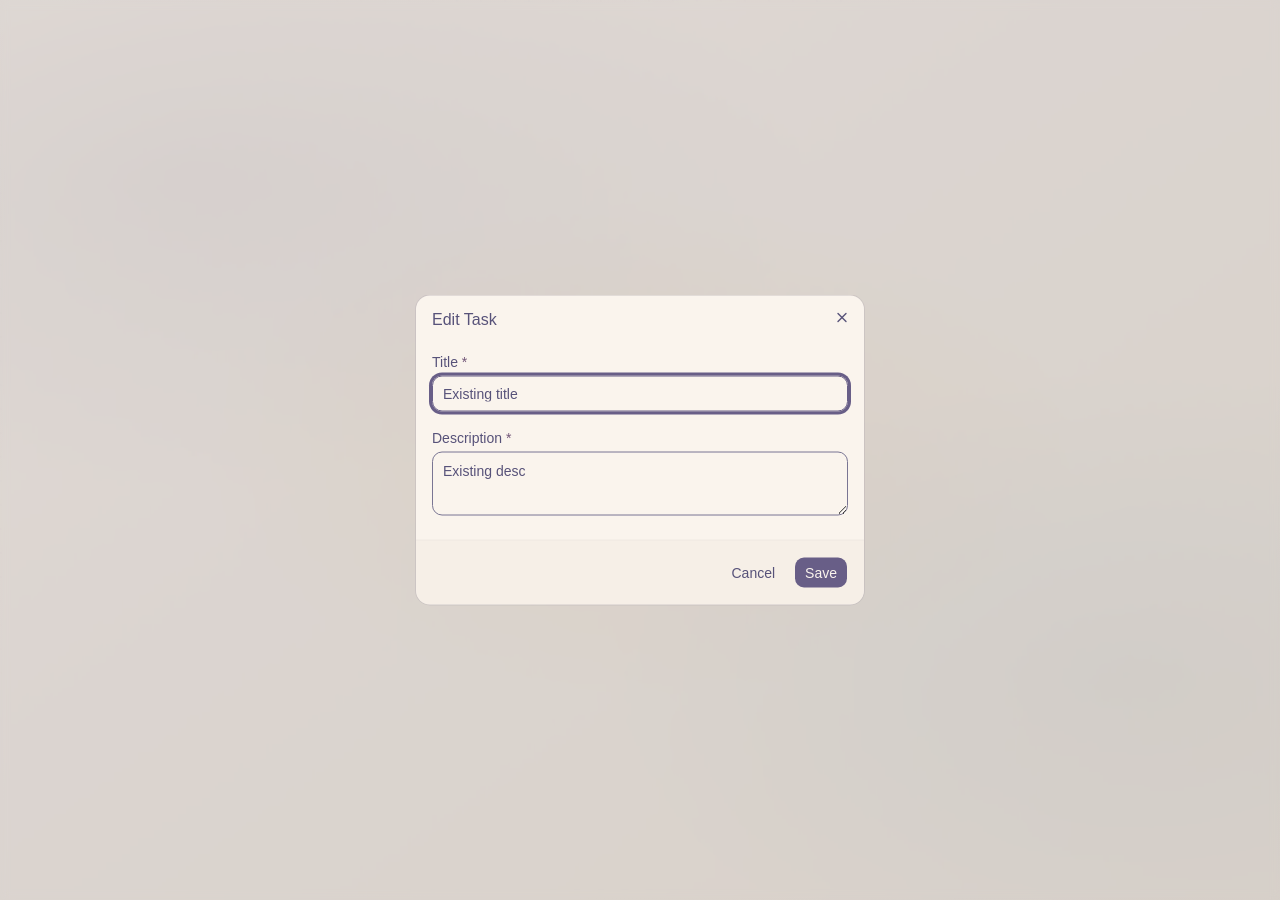
EditTaskDialog › Save is disabled when title is cleared, enabled once it's filled again
The image size is (1280, 900).
Clear the field with test id "edit-task-title": coordinates (640, 394) [432, 376, 848, 412]
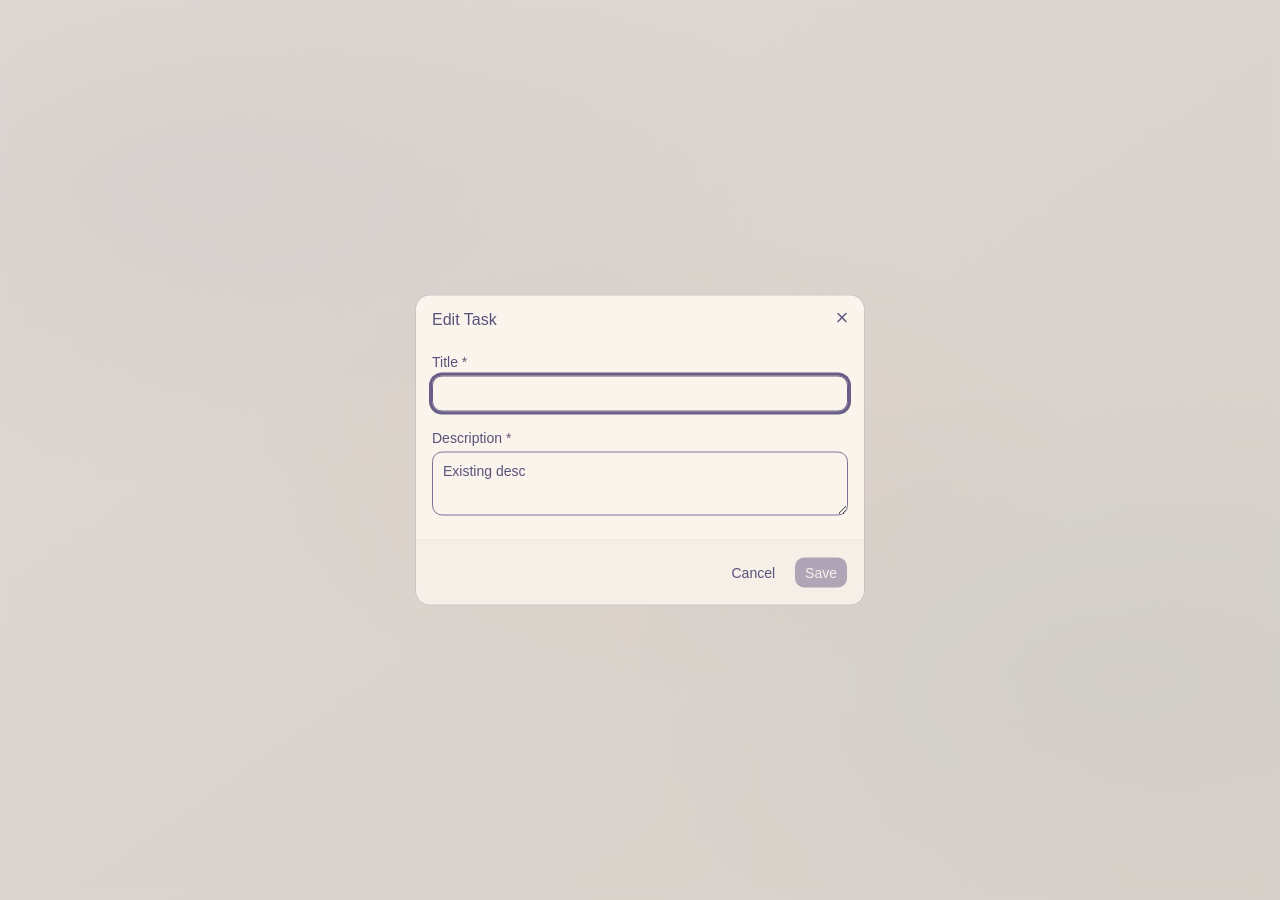
Check: the button with test id "edit-task-save" is disabled, box [794, 556, 848, 588]
In the field with test id "edit-task-title": coordinates (640, 394) [432, 376, 848, 412], type "New title"
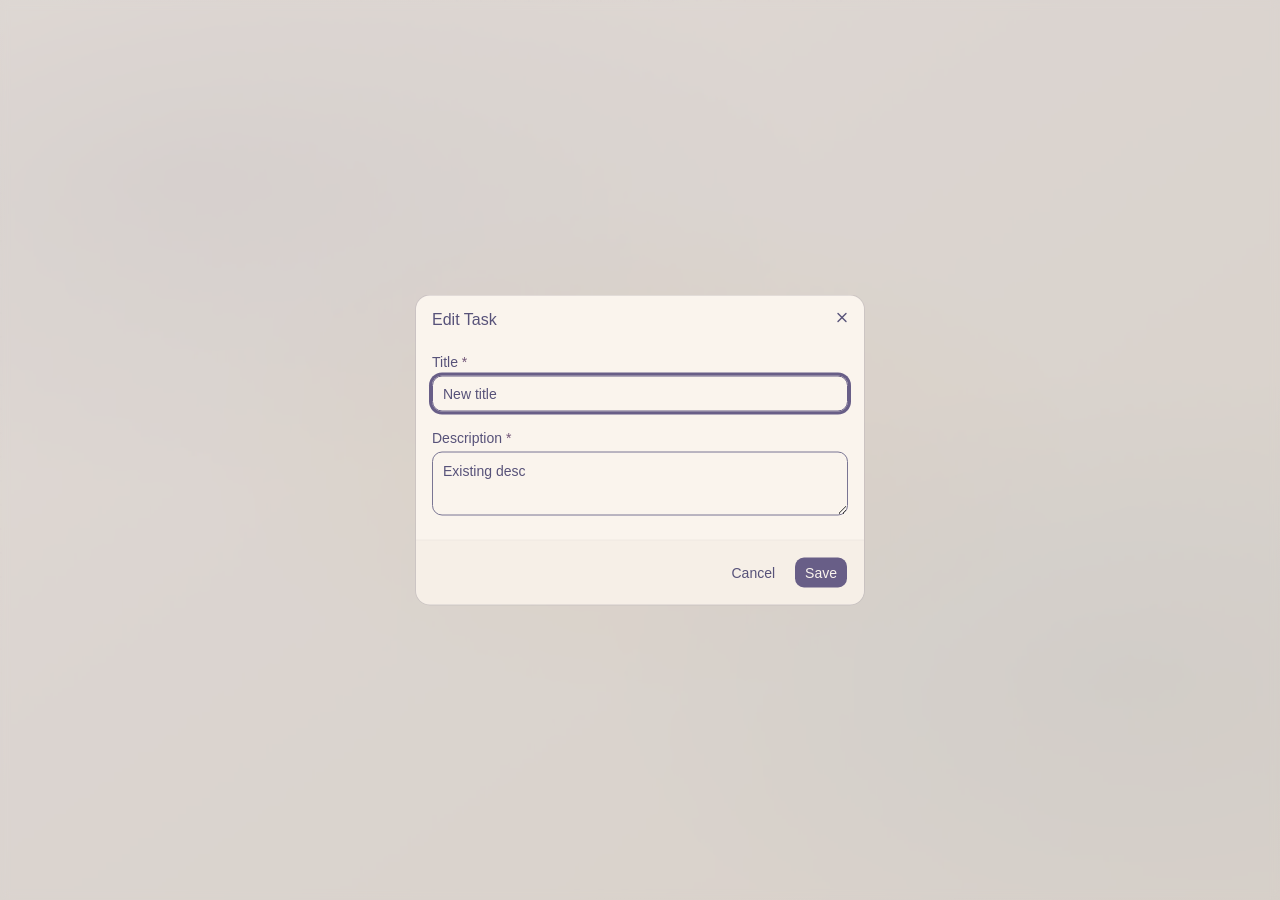
Check: the button with test id "edit-task-save" is enabled, box [794, 556, 848, 588]
